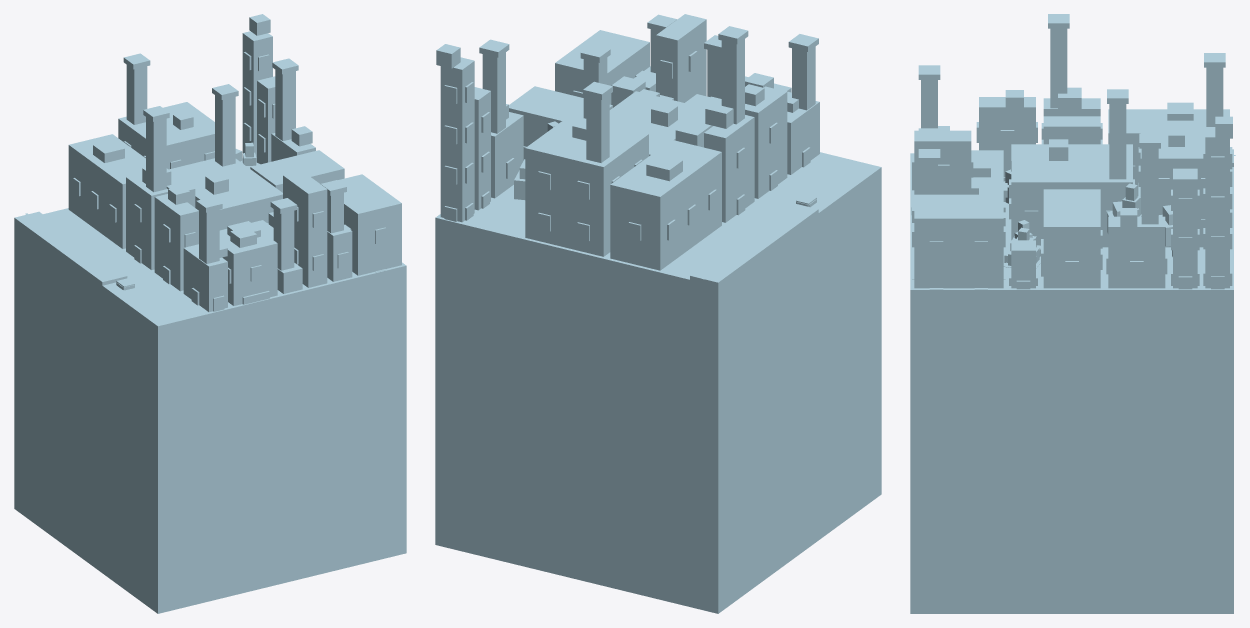
The model's file is block_26_undergroundtanks_100.glb.
3 renders of one model, left to right at view 1: azimuth 30°, elevation 25°; view 2: azimuth 150°, elevation 25°; view 3: azimuth 270°, elevation 25°, orthographic. The views are drawn at different scales.
Visible parts, largest first — view 1: Patch_UpperRight_b26_UT, Factories_UpperRight_b26_UT, Roads_UpperRight_b26_UT; view 2: Patch_UpperRight_b26_UT, Factories_UpperRight_b26_UT, Roads_UpperRight_b26_UT; view 3: Patch_UpperRight_b26_UT, Factories_UpperRight_b26_UT.
Boxes of the visible parts, x1=… form: Patch_UpperRight_b26_UT: x1=14, y1=208, x2=406, y2=613; Factories_UpperRight_b26_UT: x1=68, y1=14, x2=401, y2=311; Roads_UpperRight_b26_UT: x1=14, y1=211, x2=182, y2=353; Patch_UpperRight_b26_UT: x1=435, y1=152, x2=881, y2=613; Factories_UpperRight_b26_UT: x1=436, y1=14, x2=819, y2=270; Roads_UpperRight_b26_UT: x1=690, y1=195, x2=881, y2=286; Patch_UpperRight_b26_UT: x1=910, y1=153, x2=1233, y2=613; Factories_UpperRight_b26_UT: x1=911, y1=14, x2=1232, y2=289.
Bounding box in the file's own units: 9.5 × 16.01 × 9.55.
